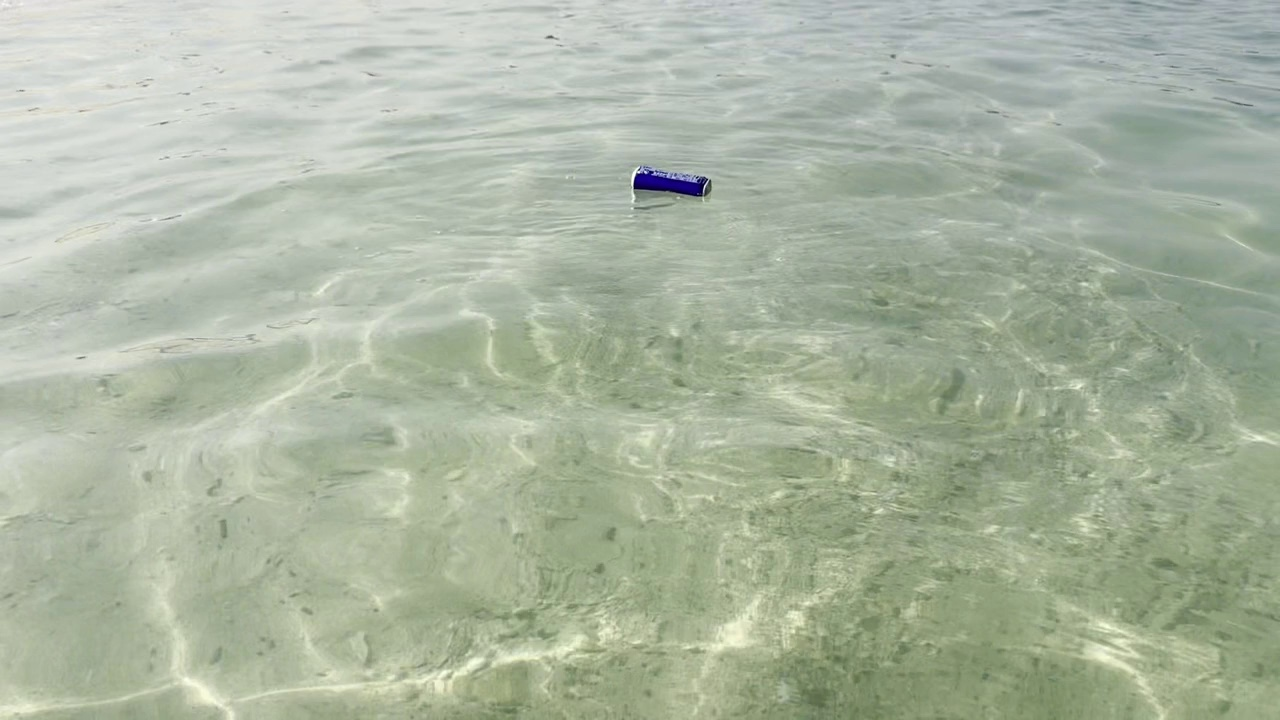debris: (621, 156, 725, 208)
